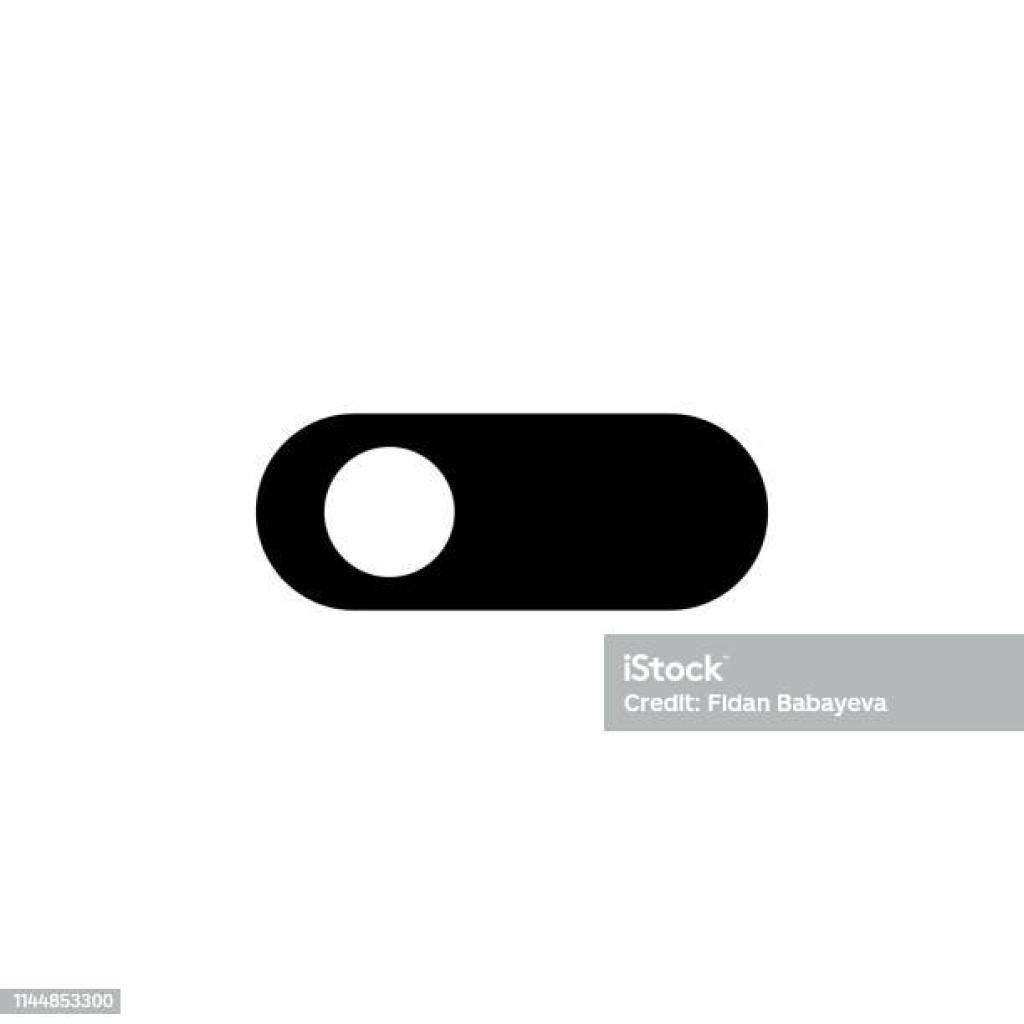switch: (256, 413, 772, 611)
